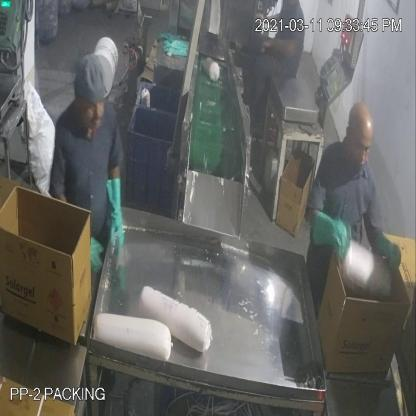glove: (316, 201, 351, 265), (375, 221, 408, 282)
no_glove: (260, 31, 306, 71)
